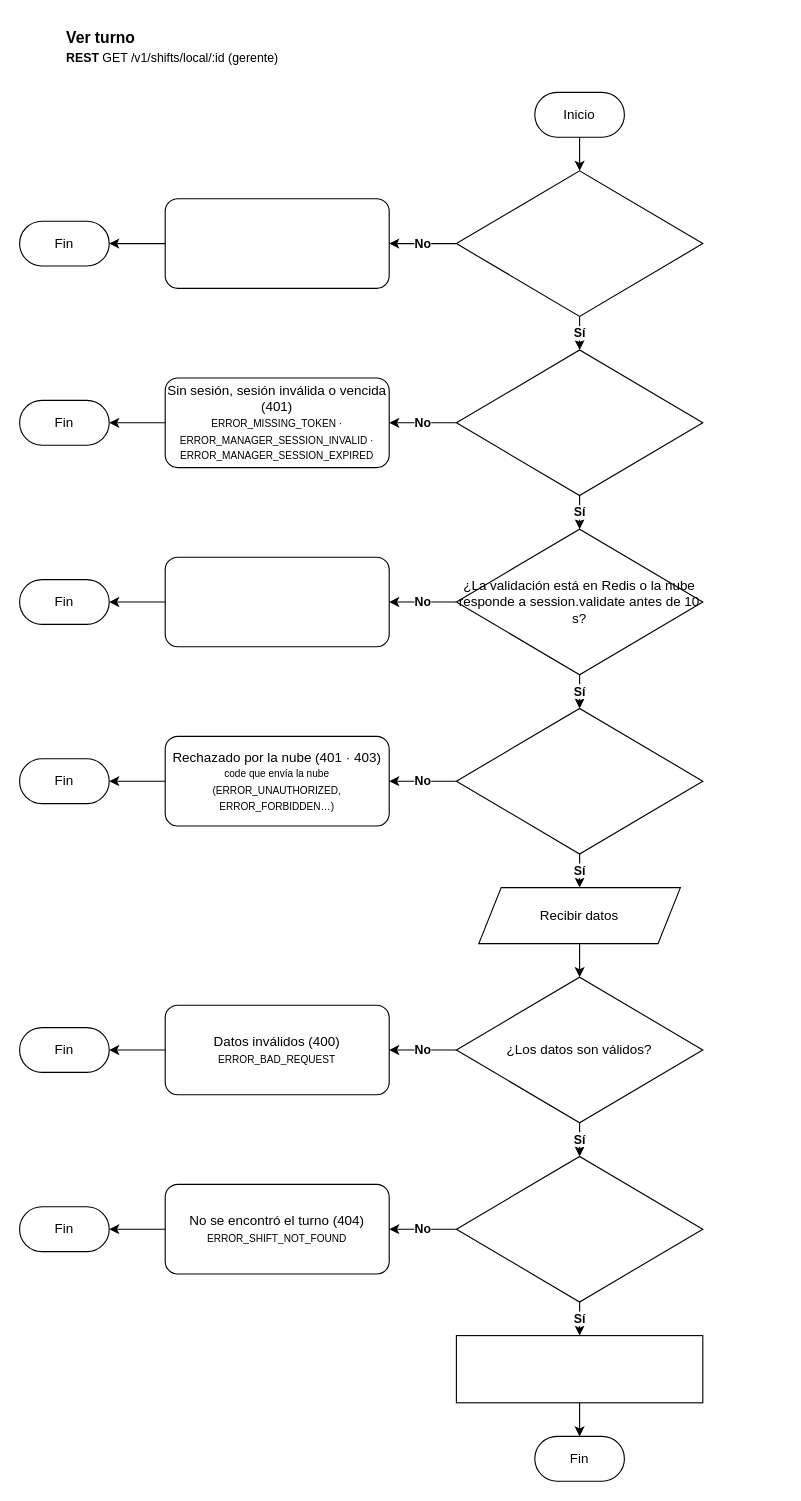
This 801x1501 diagram has some shape labels left out. Here are the shapes that lost their labels. From the top down, the centre of each, then its label:
At (276,243): "Servidor sin emparejar (409) ERROR_SERVER_NOT_PAIRED".
At (579,243): "¿El servidor ya se emparejó alguna vez (pairing_status distinto de unpaired)?".
At (579,422): "¿Trae una sesión de gerente válida (Bearer mss_..., sin 30 min de inactividad)?".
At (276,601): "La nube no responde (503) ERROR_CLOUD_UNAVAILABLE · ERROR_SERVER_UNLINKED".
At (579,780): "¿La nube acepta la sesión del gerente con este servidor?".
At (579,1228): "¿Existe el turno?".
At (579,1368): "Responder 200 con el mensaje SHIFT_RETRIEVED".
